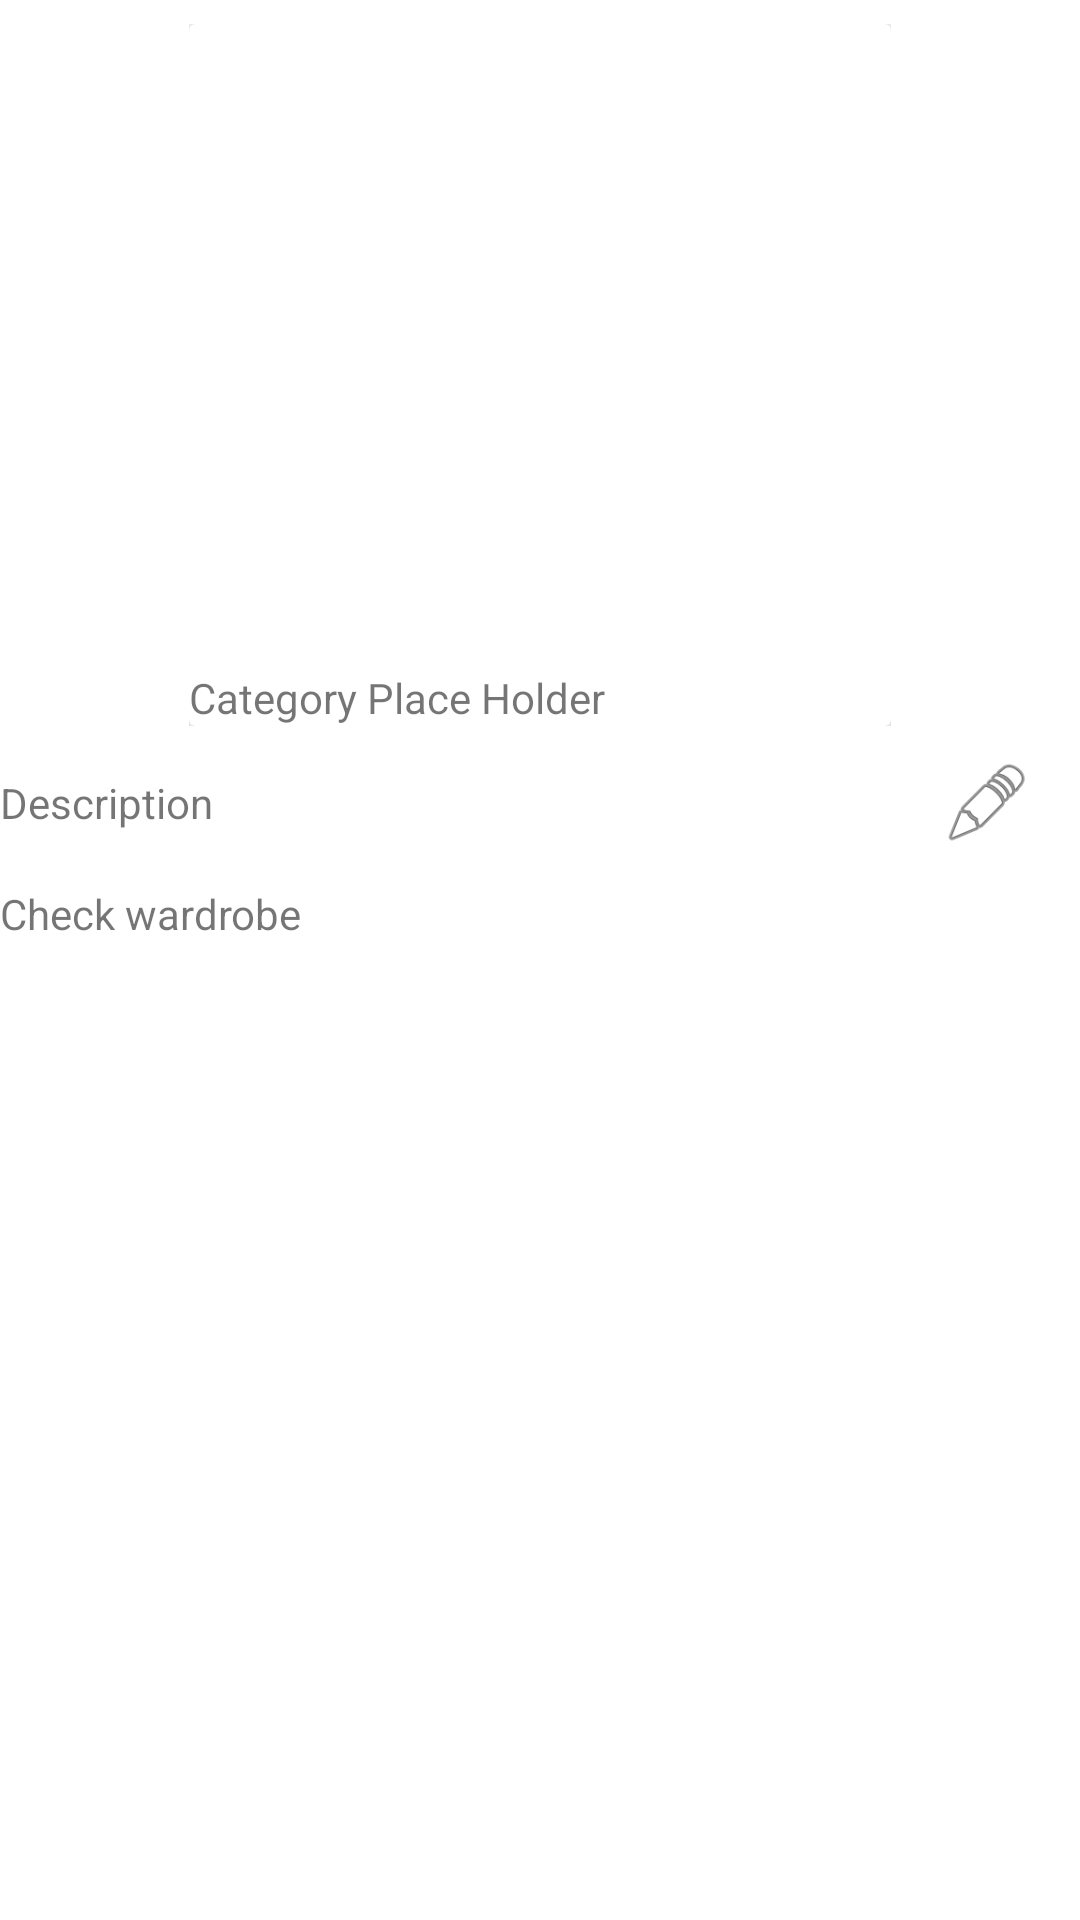

Icons on this 1080 × 1920 Android screen, each with its box as (x1, y1, x2, y2):
edit: (948, 764, 1025, 841)
